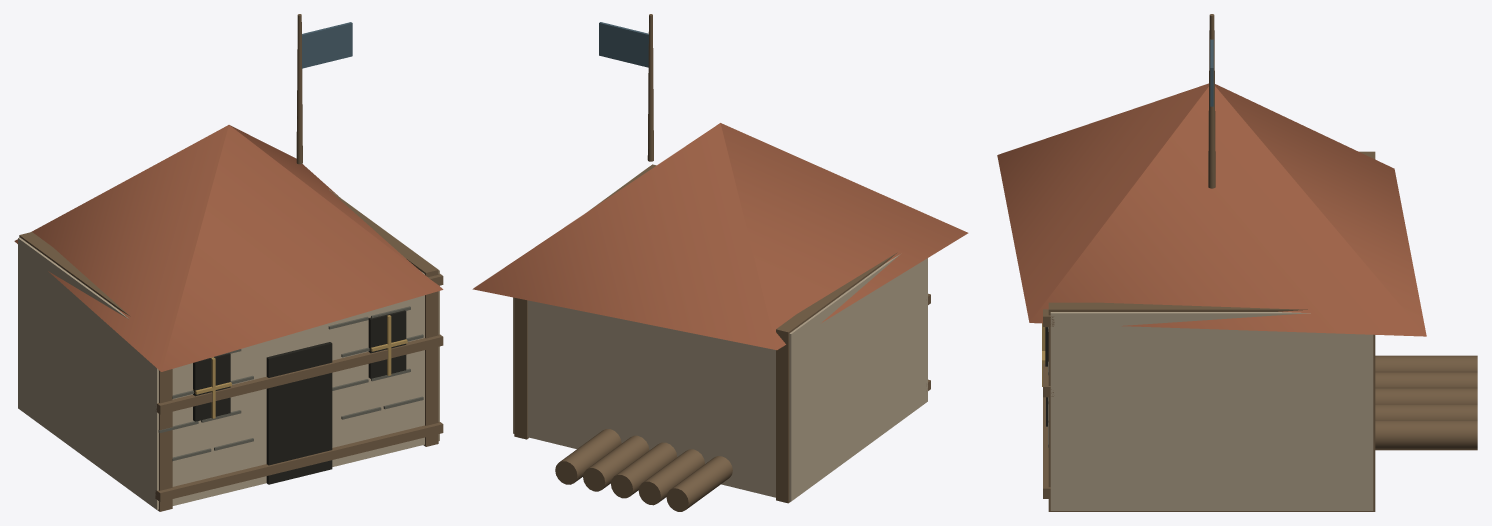
File: b-lumber-castilian.glb
3 views of the same model, side by side, from view 1: azimuth 30°, elevation 25°; view 2: azimuth 150°, elevation 25°; view 3: azimuth 270°, elevation 25° (orthographic). The views are drawn at different scales.
Visible parts, largest first — view 1: Structure; view 2: Structure; view 3: Structure.
Part boxes in pixels (x1=…): Structure: x1=14, y1=14, x2=443, y2=511; Structure: x1=472, y1=14, x2=968, y2=511; Structure: x1=997, y1=14, x2=1477, y2=511.
Size of the model in its own units: 4.53 by 5.33 by 5.06.
